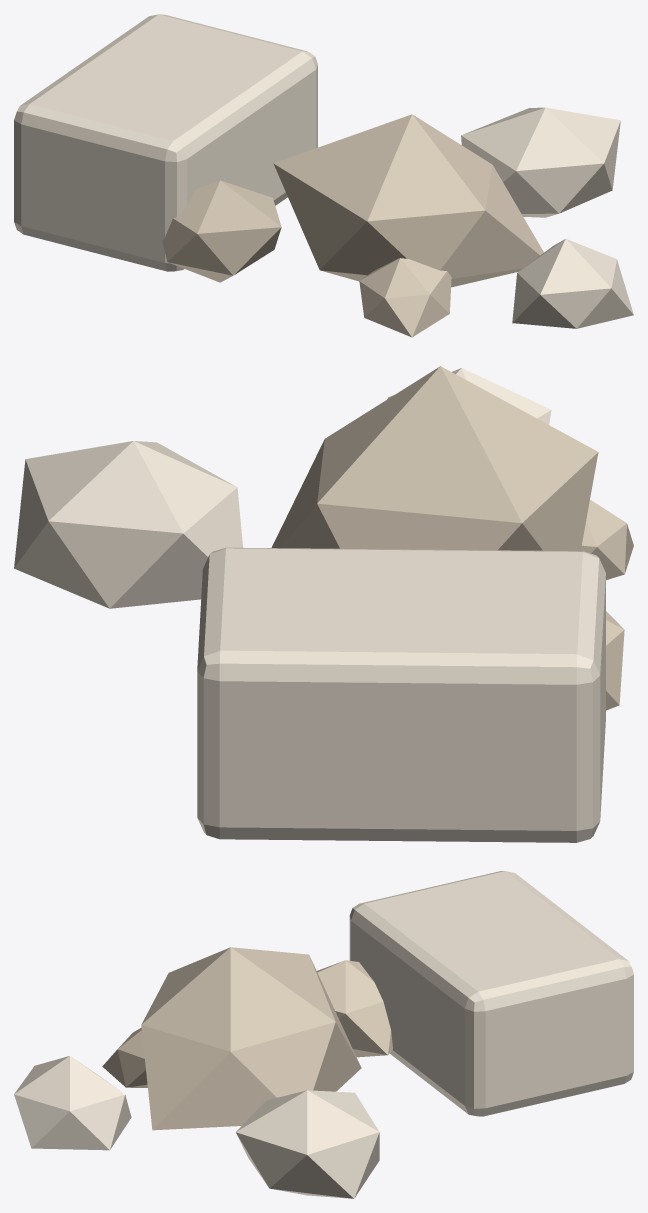
Rendered from rubble.glb.
The picture shows the model from 3 angles, top to bottom: view 1: azimuth 30°, elevation 25°; view 2: azimuth 150°, elevation 25°; view 3: azimuth 270°, elevation 25°; orthographic projection. The views are drawn at different scales.
Parts seen in each view (by area): view 1: block, r0, r1, r2, r3, r4; view 2: block, r0, r1, r4, r2, r3; view 3: block, r0, r1, r3, r2, r4.
Part boxes in pixels (x1,y1,x2,y2): block: (14,14,317,271); r0: (273,114,543,287); r1: (461,107,620,217); r2: (162,180,281,282); r3: (512,238,633,328); r4: (359,258,451,337); block: (197,547,605,842); r0: (271,366,598,551); r1: (14,441,242,608); r4: (581,499,633,580); r2: (606,611,624,710); r3: (387,368,551,424); block: (349,871,633,1116); r0: (141,947,361,1130); r1: (236,1090,379,1198); r3: (14,1056,131,1150); r2: (317,960,392,1057); r4: (102,1027,147,1087).
Size of the model in its own units: 1.44 by 0.5021 by 1.62.
